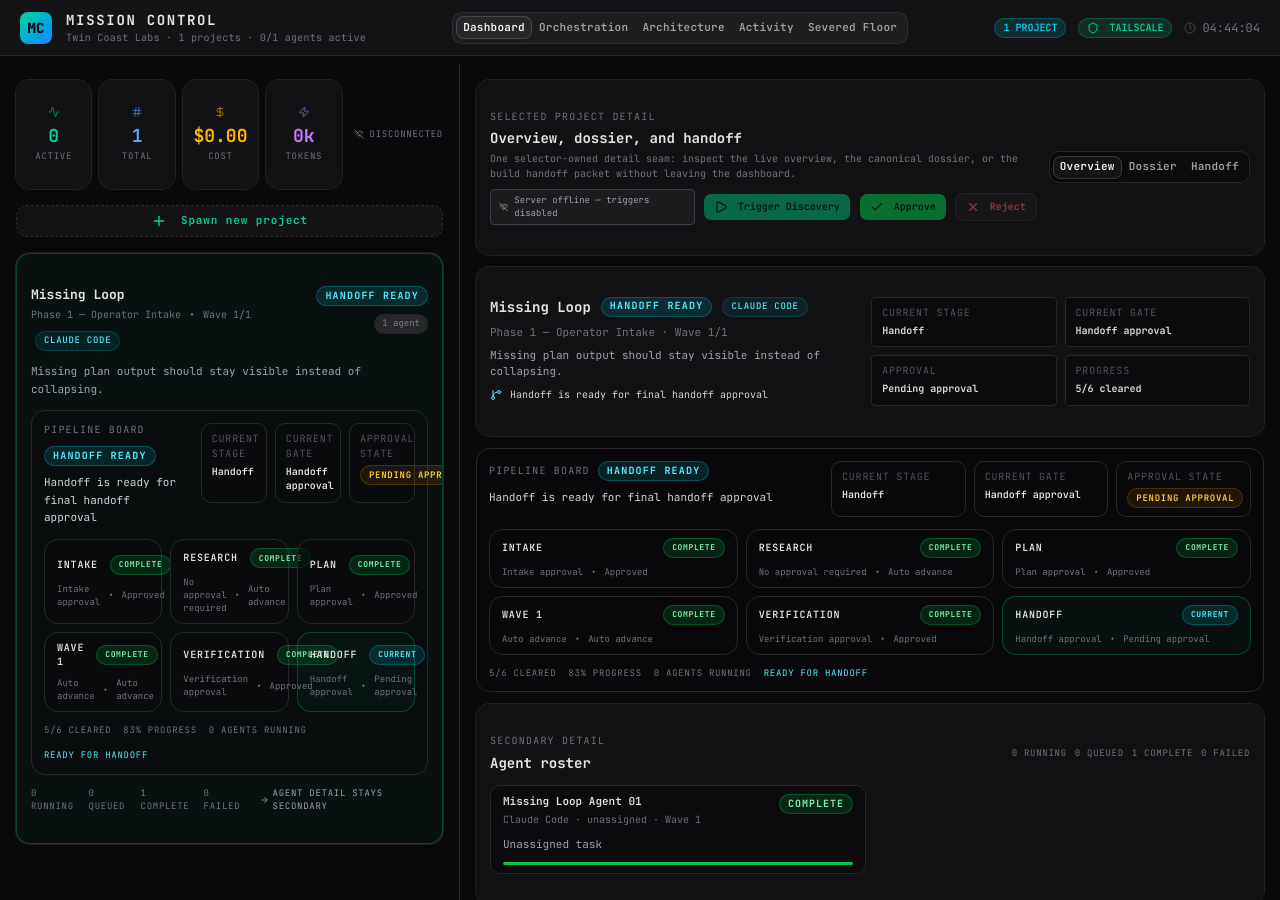
MissionControl project dossier › keeps missing-output messaging honest in dossier and handoff views
Click the tab "Dossier" at x=1153, y=167, box [1122,156,1184,179]
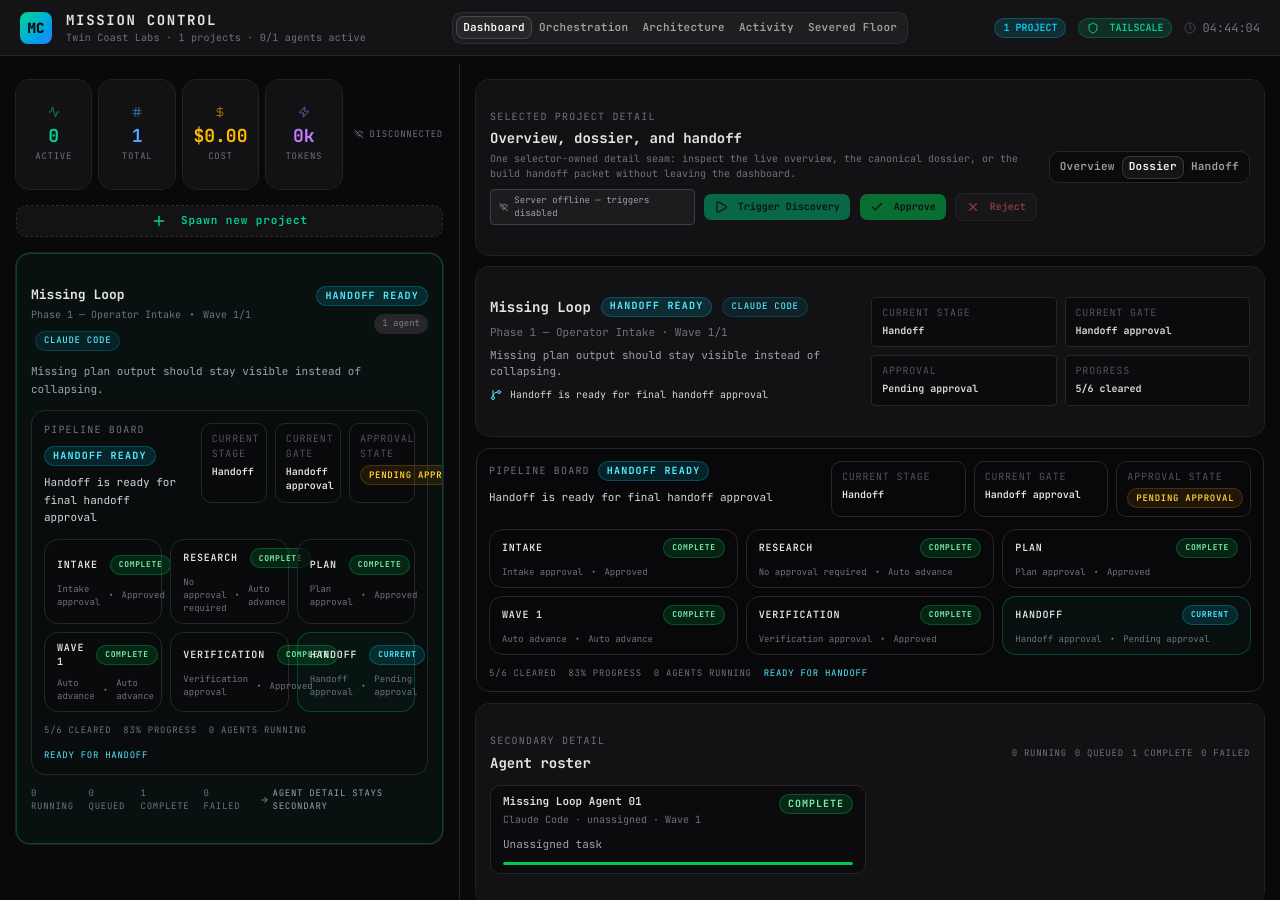
Click the tab "Handoff" at x=1215, y=167, box [1184,156,1246,179]
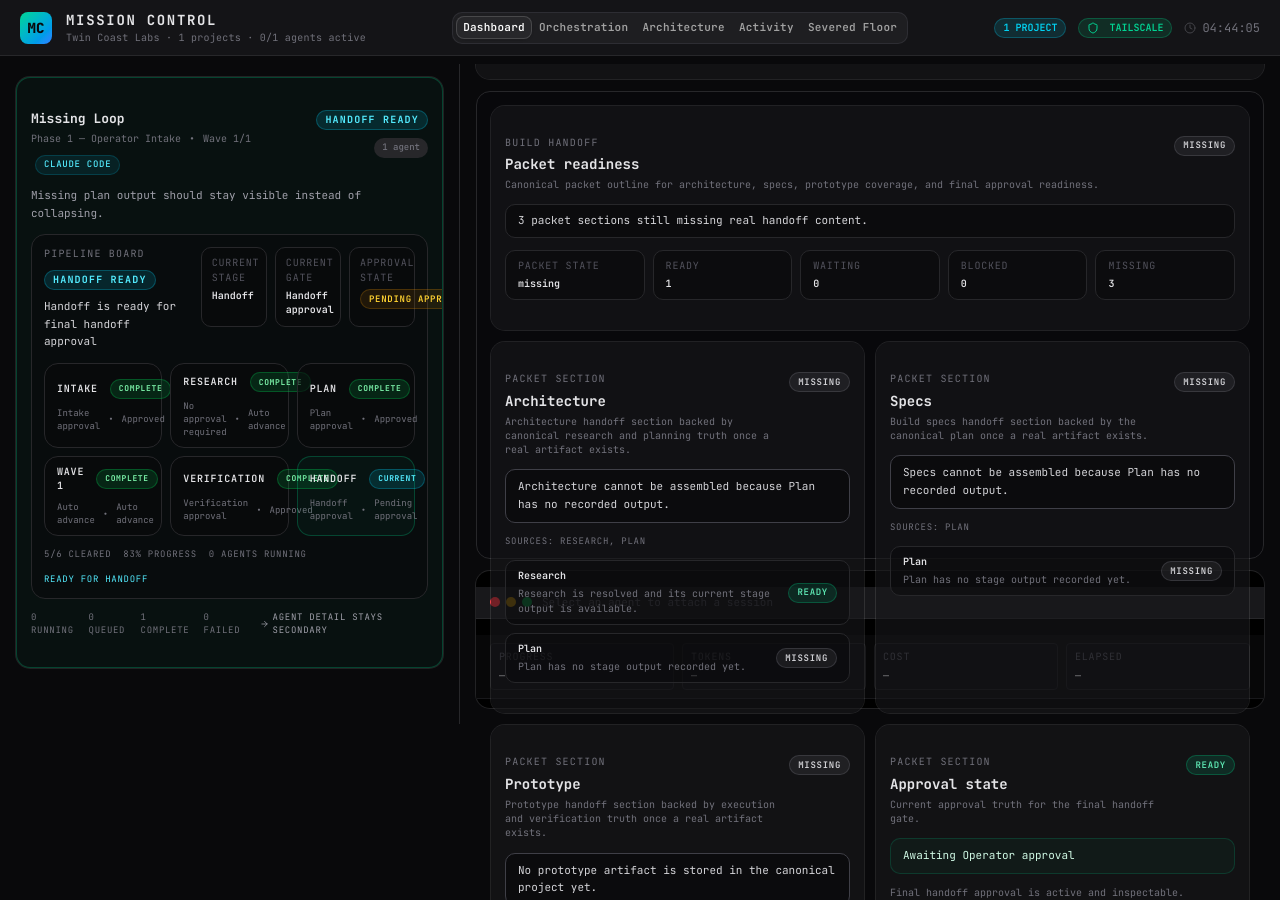
Expected: the text with test id "selected-project-handoff-status" reads "Missing", [1183,139,1226,151]
Expected: the text with test id "selected-project-handoff-section-handoff-architecture-summary" shows "cannot be assembled because Plan has no recorded output", [518,480,815,511]
Expected: the text with test id "selected-project-handoff-section-handoff-specification-summary" shows "cannot be assembled because Plan has no recorded output", [903,465,1200,497]
